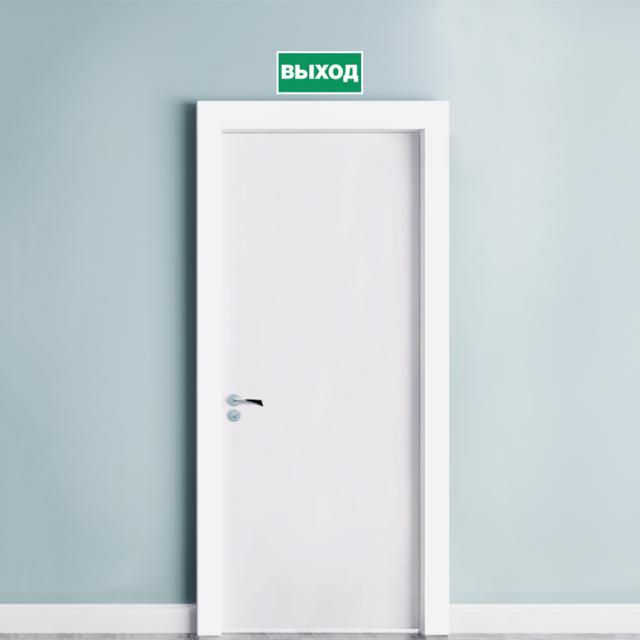close: (196, 101, 450, 636)
